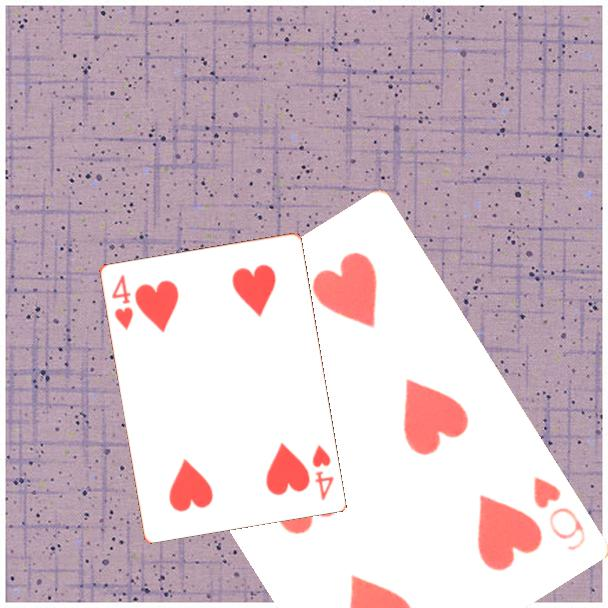h04: (108, 271, 136, 333), (308, 441, 336, 503)
h06: (530, 472, 590, 554)
